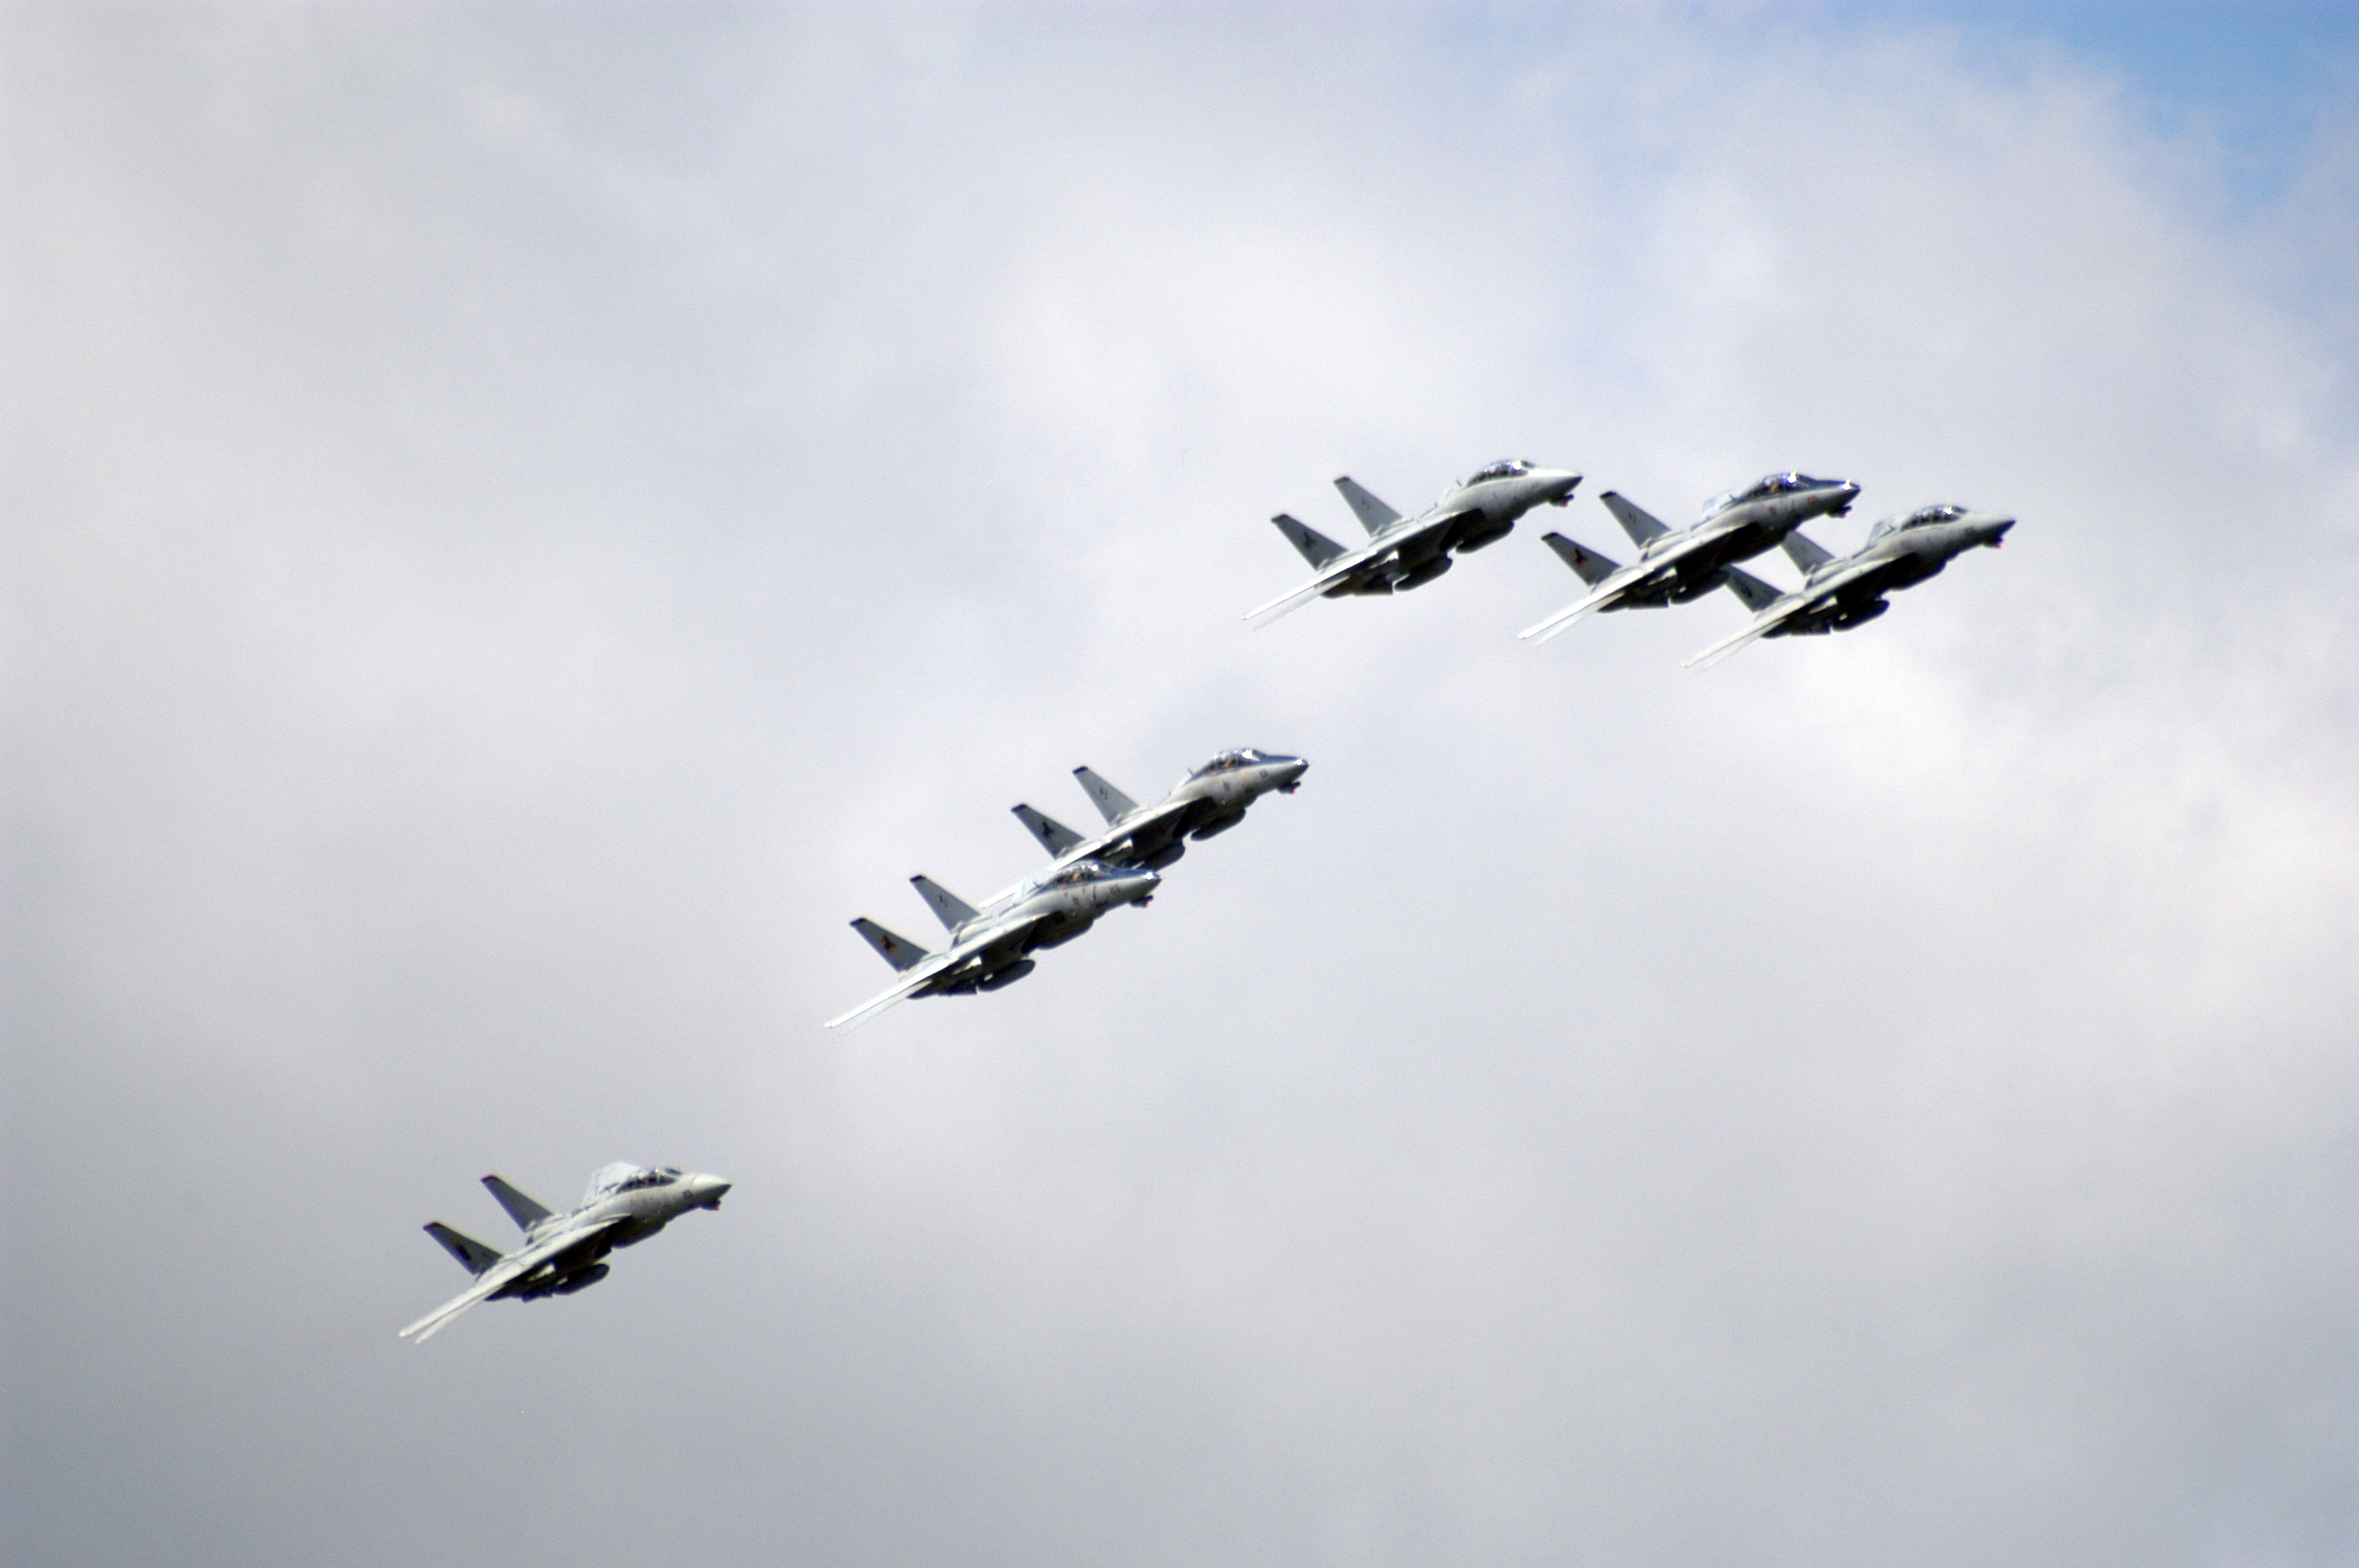F14: (397, 1160, 733, 1346), (822, 857, 1167, 1038), (1517, 471, 1866, 647), (1239, 458, 1586, 634), (1682, 504, 2018, 675), (975, 746, 1314, 910)
